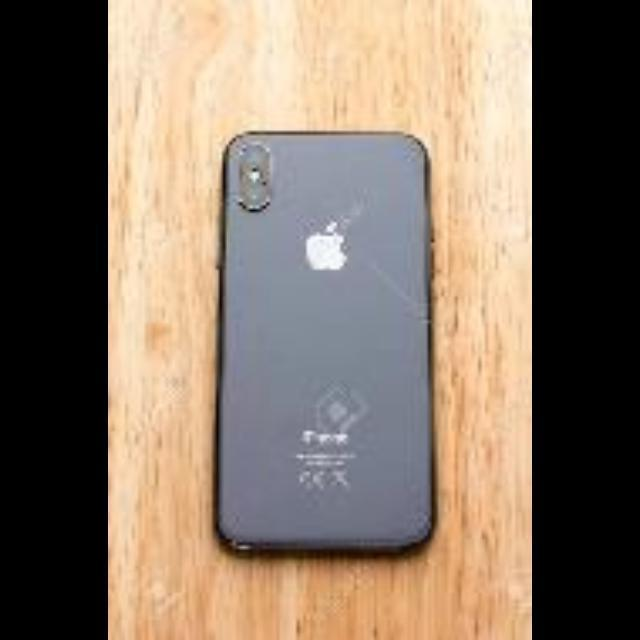phone: (212, 130, 437, 553)
